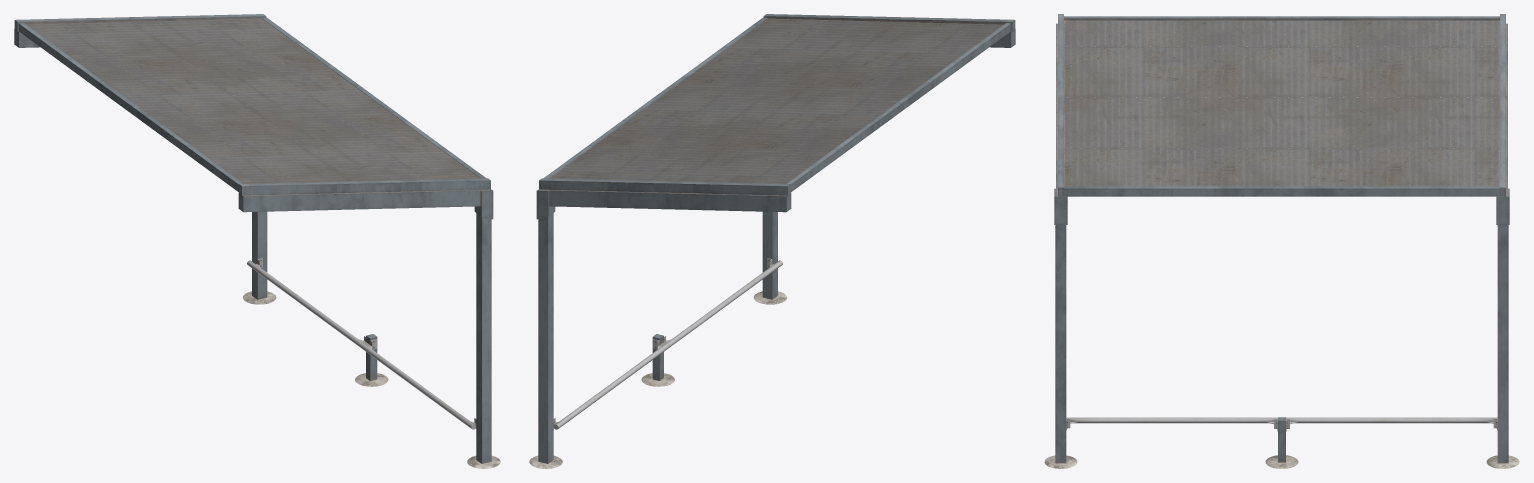
File: SM_BikeCover_01.fbx
3 renders of one model, left to right at view 1: azimuth 30°, elevation 25°; view 2: azimuth 150°, elevation 25°; view 3: azimuth 270°, elevation 25°, orthographic.
Parts seen in each view (by area): view 1: SM_BikeCover_01_LOD0; view 2: SM_BikeCover_01_LOD0; view 3: SM_BikeCover_01_LOD0.
Part boxes in pixels (bbox=[...]): SM_BikeCover_01_LOD0: bbox=[14, 14, 500, 468]; SM_BikeCover_01_LOD0: bbox=[529, 14, 1015, 468]; SM_BikeCover_01_LOD0: bbox=[1044, 14, 1519, 468].
Bounding box in the file's own units: 265 × 430 × 330.
1 material, 1 textured.
